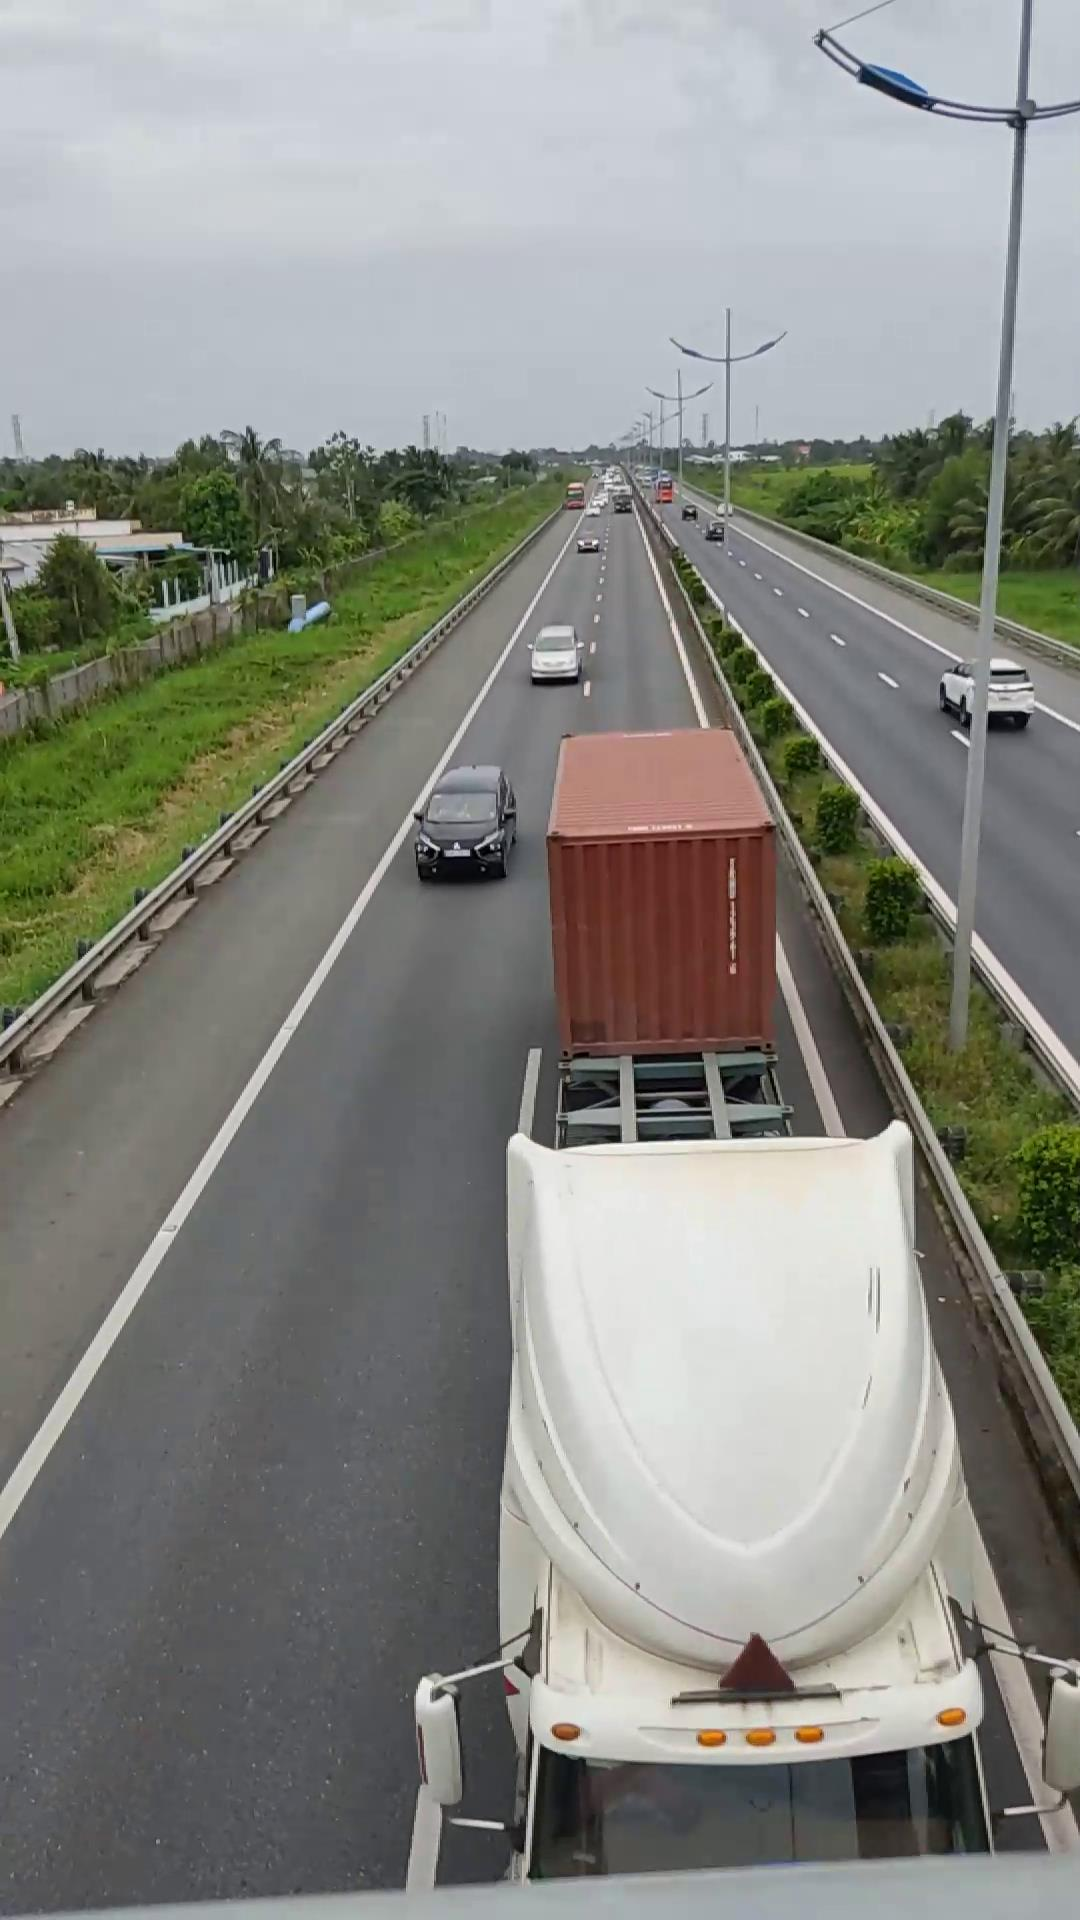car: (411, 762, 520, 880), (526, 622, 593, 684)
container: (481, 720, 1007, 1880)
